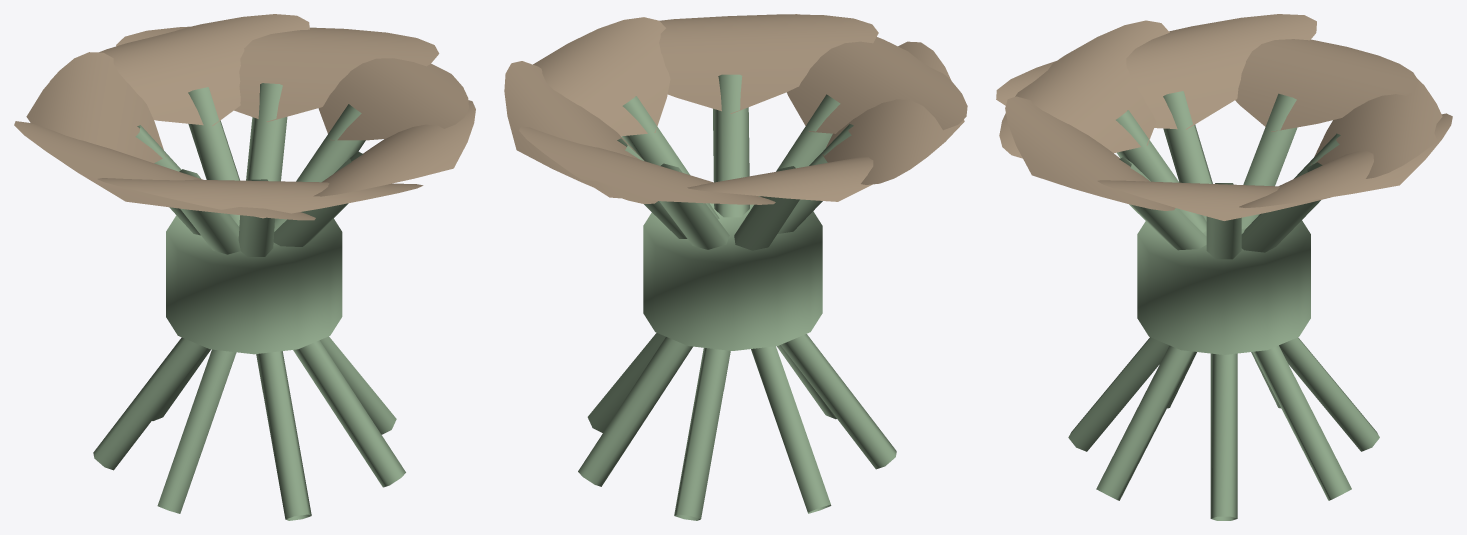
The model's file is aquaglow-dead.glb.
3 renders of one model, left to right at view 1: azimuth 30°, elevation 25°; view 2: azimuth 150°, elevation 25°; view 3: azimuth 270°, elevation 25°, orthographic. The views are drawn at different scales.
Visible parts, largest first — view 1: shell-material-10-0, shell-material-7-0; view 2: shell-material-10-0, shell-material-7-0; view 3: shell-material-10-0, shell-material-7-0.
Part boxes in pixels (x1,y1,x2,y2): shell-material-10-0: (14, 14, 475, 220); shell-material-7-0: (93, 83, 405, 520); shell-material-10-0: (504, 14, 967, 204); shell-material-7-0: (578, 74, 896, 520); shell-material-10-0: (996, 14, 1452, 220); shell-material-7-0: (1068, 91, 1379, 520).
Size of the model in its own units: 0.7359 by 0.6255 by 0.7372.
